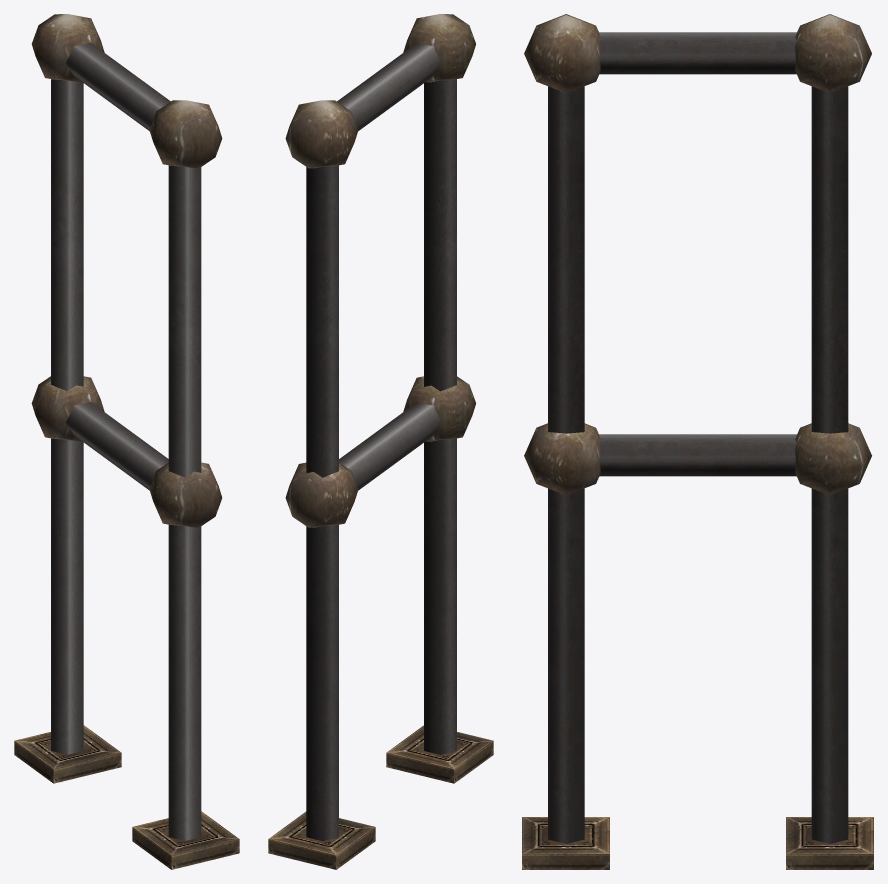
File: railings_factory_05m.DAE
The picture shows the model from 3 angles, left to right: view 1: azimuth 30°, elevation 25°; view 2: azimuth 150°, elevation 25°; view 3: azimuth 270°, elevation 25°; orthographic projection. The views are drawn at different scales.
Visible parts, largest first — view 1: Object101; view 2: Object101; view 3: Object101.
Part boxes in pixels (x1,y1,x2,y2): Object101: [14, 14, 239, 869]; Object101: [268, 14, 493, 869]; Object101: [522, 14, 873, 869].
Size of the model in its own units: 0.125 by 1.31 by 0.4996.
